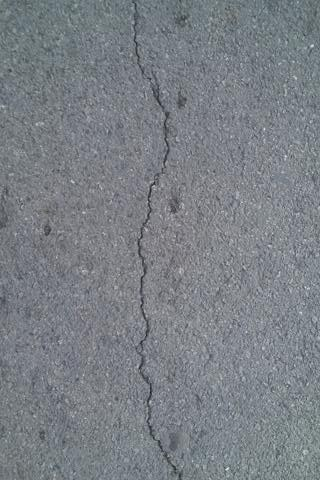A: (131, 2, 184, 480)
